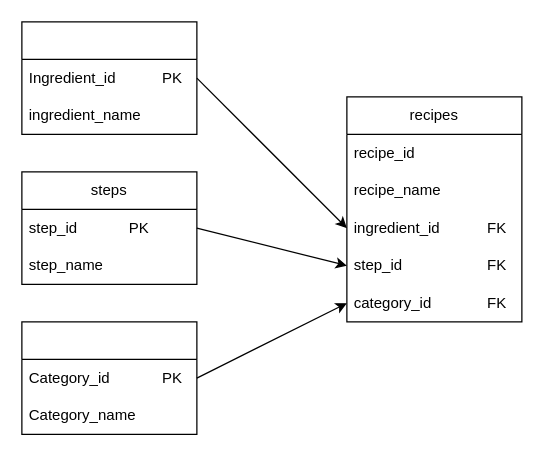
The diagram is 544 pixels wide and 456 high, and some of its shapes have lost their labels. Each missing label, with the box of its shape:
Categories: (21, 321, 197, 434)
Ingredients: (21, 21, 197, 134)
